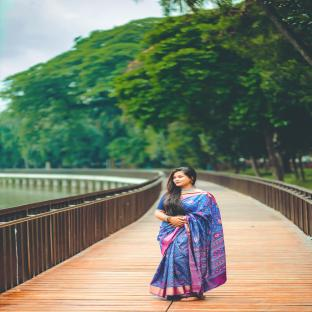Human: (150, 167, 226, 302)
